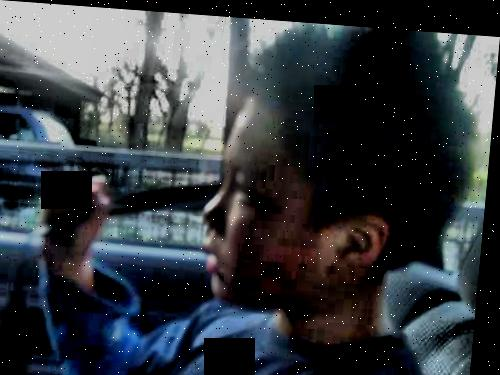seatbelt: (25, 154, 222, 261)
